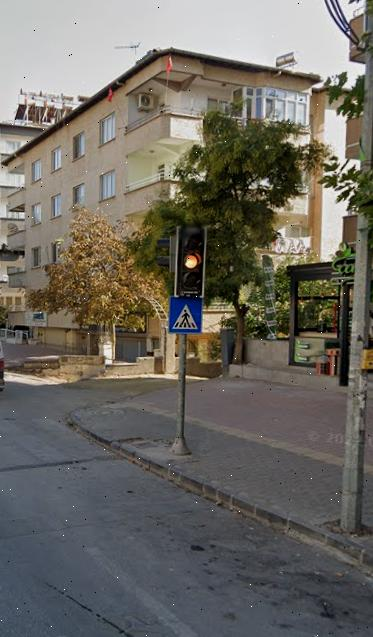greenlight: (172, 221, 208, 300)
